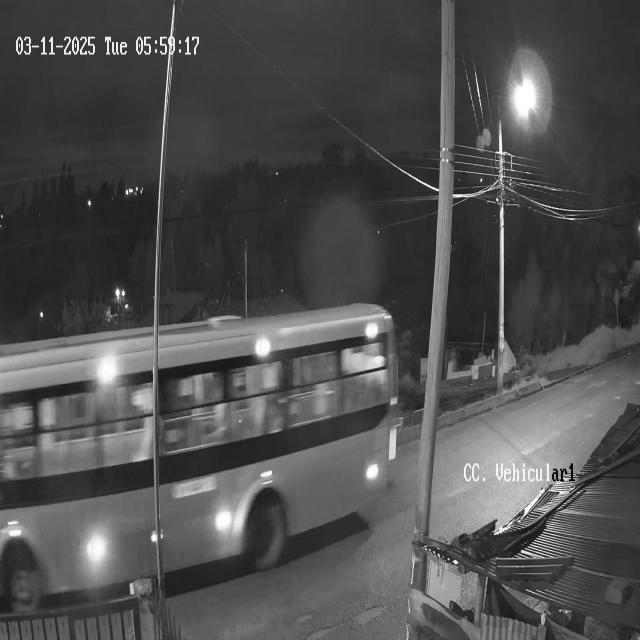BUS: (0, 298, 402, 608)
